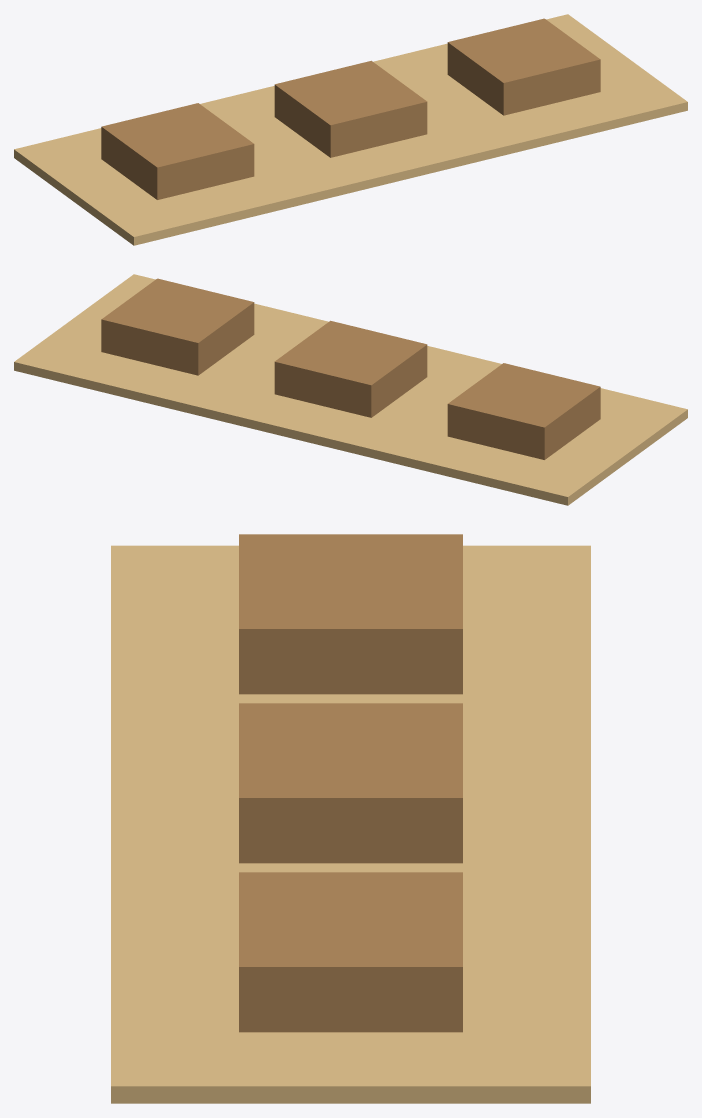
The model's file is botanical-garden.source.glb.
3 renders of one model, top to bottom at view 1: azimuth 30°, elevation 25°; view 2: azimuth 150°, elevation 25°; view 3: azimuth 270°, elevation 25°, orthographic. The views are drawn at different scales.
Visible parts, largest first — view 1: botanical-garden-path-mesh, botanical-garden-bed-2.5-mesh, botanical-garden-bed--2.5-mesh, botanical-garden-bed-0-mesh; view 2: botanical-garden-path-mesh, botanical-garden-bed-2.5-mesh, botanical-garden-bed--2.5-mesh, botanical-garden-bed-0-mesh; view 3: botanical-garden-path-mesh, botanical-garden-bed--2.5-mesh, botanical-garden-bed-0-mesh, botanical-garden-bed-2.5-mesh.
Part boxes in pixels (x1=…): botanical-garden-path-mesh: x1=14, y1=14, x2=687, y2=245; botanical-garden-bed-2.5-mesh: x1=447, y1=18, x2=600, y2=115; botanical-garden-bed--2.5-mesh: x1=101, y1=103, x2=254, y2=199; botanical-garden-bed-0-mesh: x1=274, y1=60, x2=427, y2=157; botanical-garden-path-mesh: x1=14, y1=274, x2=687, y2=505; botanical-garden-bed-2.5-mesh: x1=101, y1=278, x2=254, y2=375; botanical-garden-bed--2.5-mesh: x1=447, y1=363, x2=600, y2=459; botanical-garden-bed-0-mesh: x1=274, y1=320, x2=427, y2=417; botanical-garden-path-mesh: x1=111, y1=545, x2=590, y2=1103; botanical-garden-bed--2.5-mesh: x1=239, y1=534, x2=462, y2=694; botanical-garden-bed-0-mesh: x1=239, y1=703, x2=462, y2=863; botanical-garden-bed-2.5-mesh: x1=239, y1=872, x2=462, y2=1032.
Bounding box in the file's own units: 8 × 0.57 × 3.
